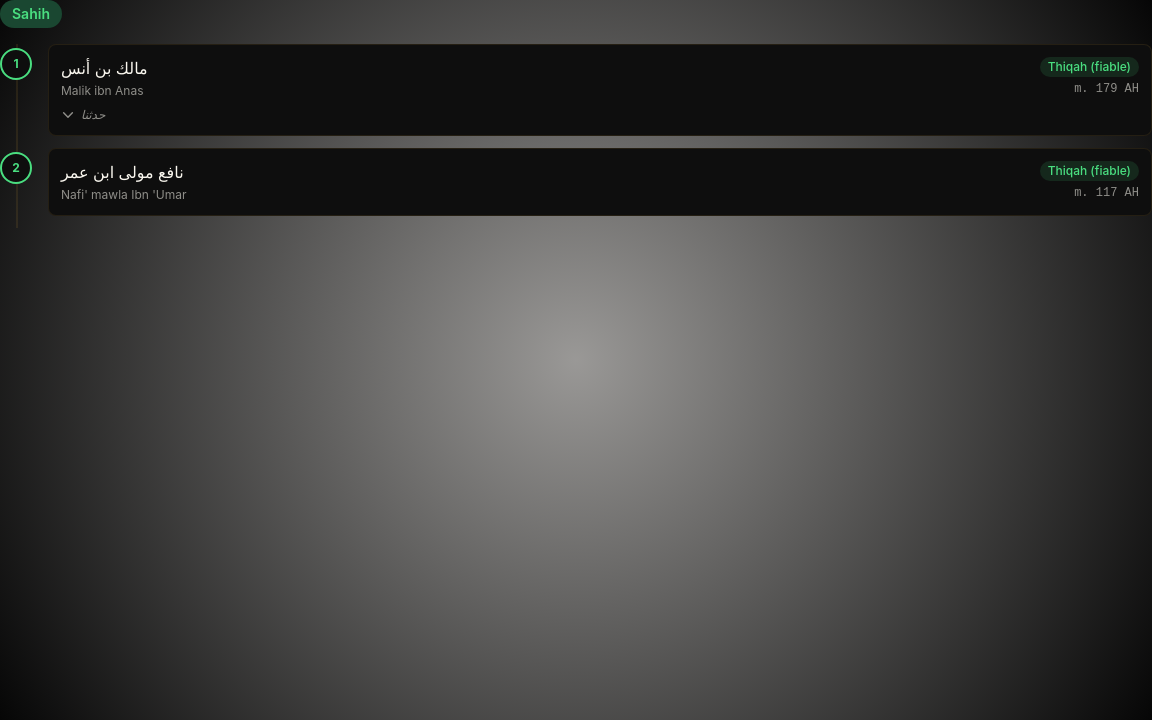
Test: IsnadChain Component › opens NarratorModal when a narrator card is clicked
Click the text "مالك بن أنس": (104, 69) [61,57,148,81]
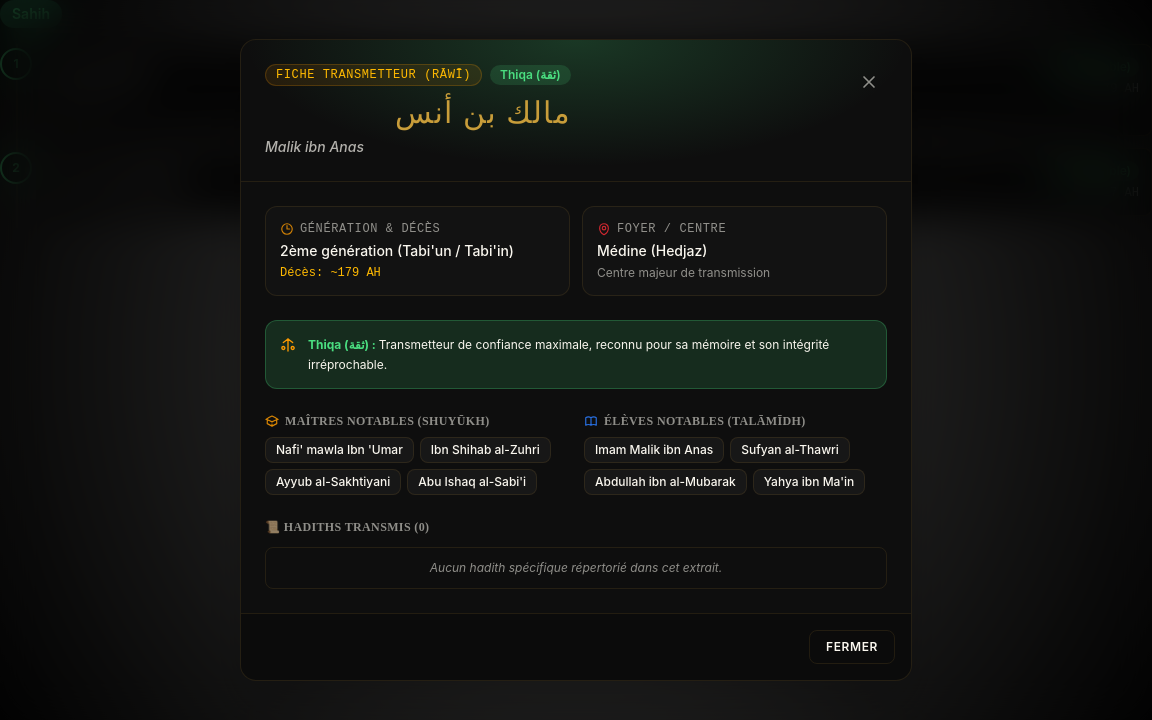
Check: the text "Fiche Transmetteur (Rāwī)" is shown, box [265,64,482,86]
